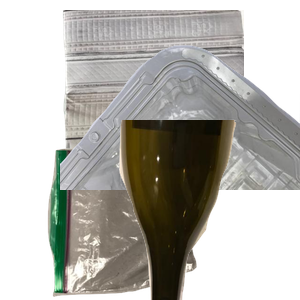glass: (117, 120, 300, 300)
paper: (60, 10, 300, 190)
plastic: (60, 43, 300, 223)
trash: (45, 144, 235, 300)
